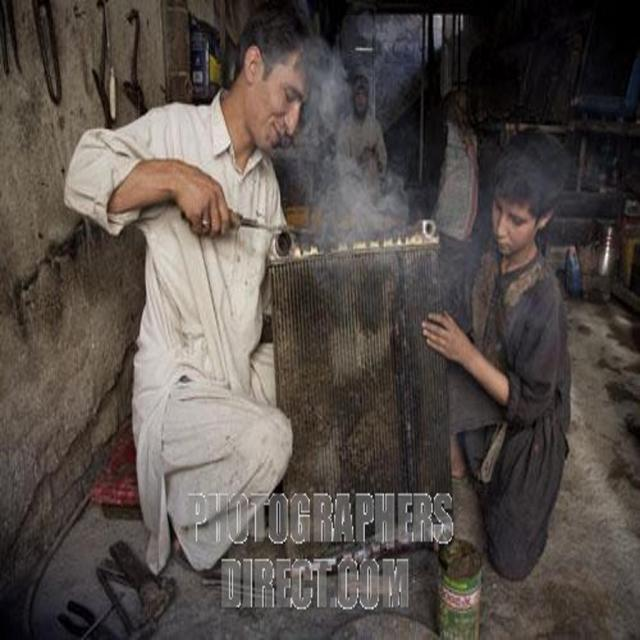nomask: (260, 38, 312, 150), (491, 166, 535, 256)
